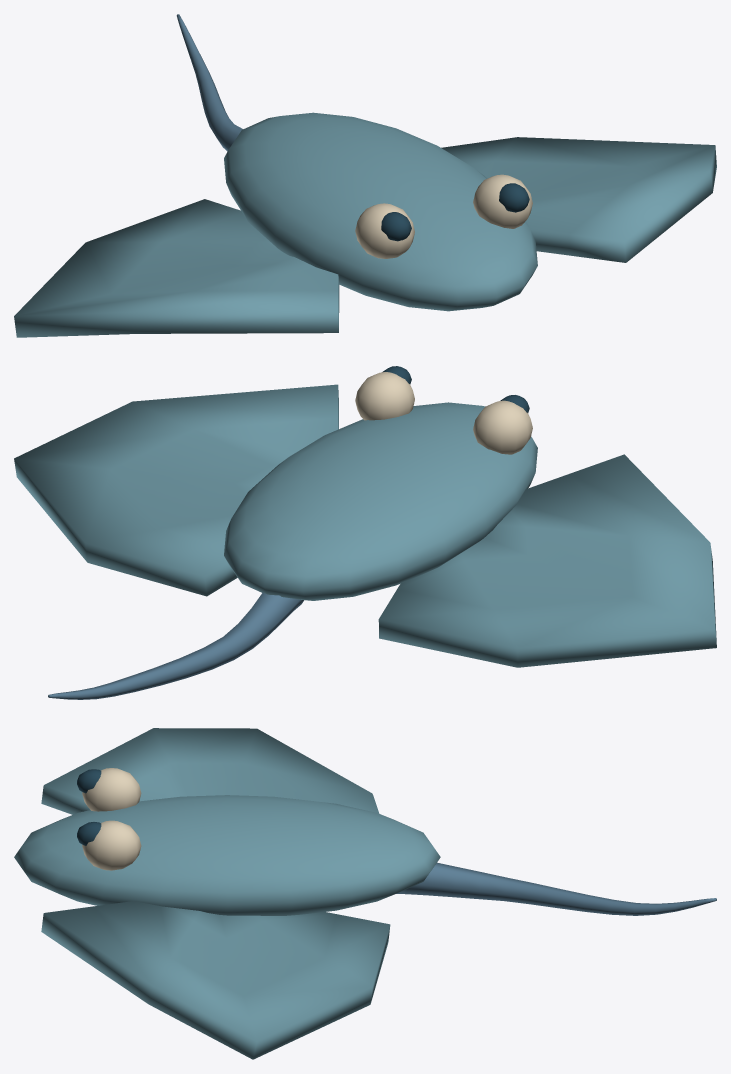
The model's file is ray.glb.
3 renders of one model, top to bottom at view 1: azimuth 30°, elevation 25°; view 2: azimuth 150°, elevation 25°; view 3: azimuth 270°, elevation 25°, orthographic. The views are drawn at different scales.
Visible parts, largest first — view 1: food_ray_painted_mesh; view 2: food_ray_painted_mesh; view 3: food_ray_painted_mesh.
Part boxes in pixels (<box>): food_ray_painted_mesh: <box>14,14,716,337</box>; food_ray_painted_mesh: <box>14,366,716,699</box>; food_ray_painted_mesh: <box>14,728,716,1059</box>.
Bounding box in the file's own units: 2.5 × 0.4168 × 2.37.
